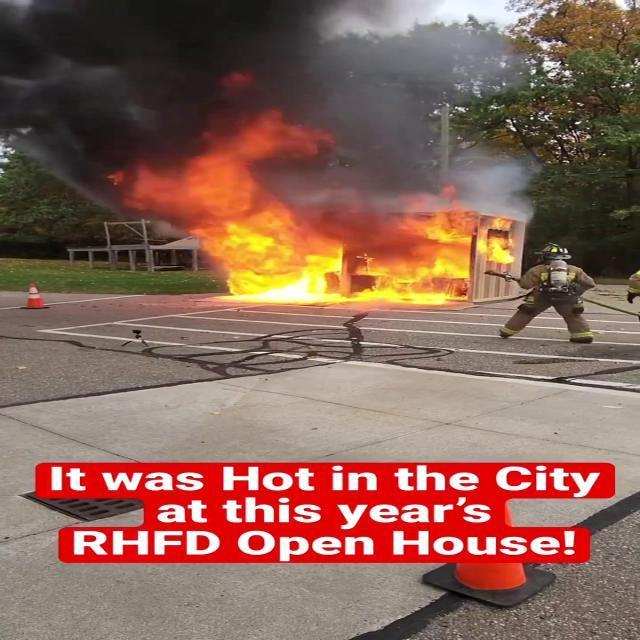Fire: (142, 170, 487, 314)
Smoke: (0, 0, 564, 210)
